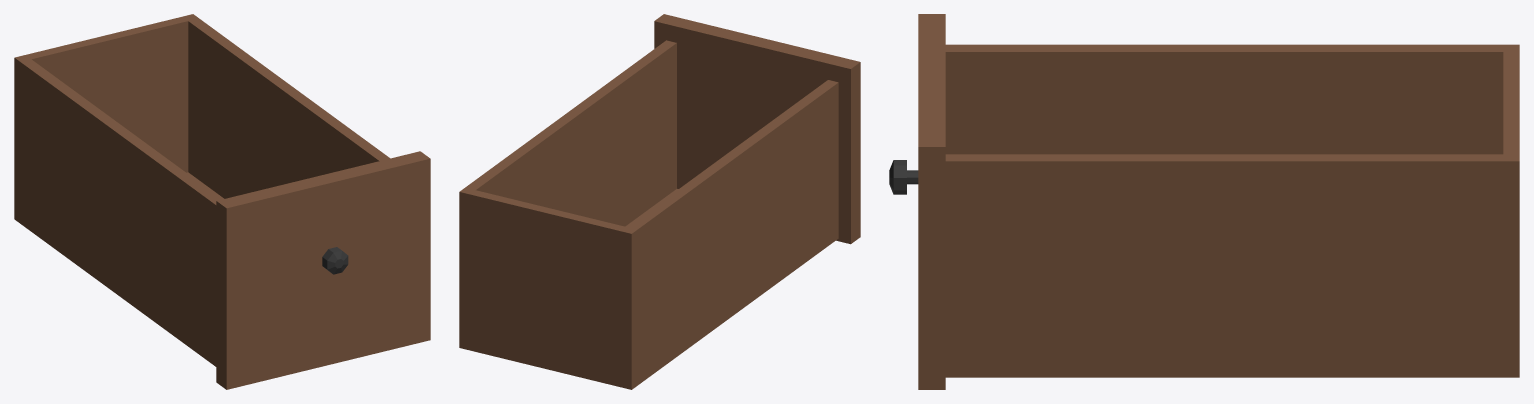
Rendered from Door3_C2_07.fbx.
3 renders of one model, left to right at view 1: azimuth 30°, elevation 25°; view 2: azimuth 150°, elevation 25°; view 3: azimuth 270°, elevation 25°, orthographic. The views are drawn at different scales.
Parts seen in each view (by area): view 1: Door3_C2_07; view 2: Door3_C2_07; view 3: Door3_C2_07.
Part boxes in pixels (left/top/right/bottom): Door3_C2_07: left=14, top=14, right=430, bottom=389; Door3_C2_07: left=459, top=14, right=860, bottom=389; Door3_C2_07: left=889, top=14, right=1519, bottom=389.
Size of the model in its own units: 29 by 24.68 by 58.03.
